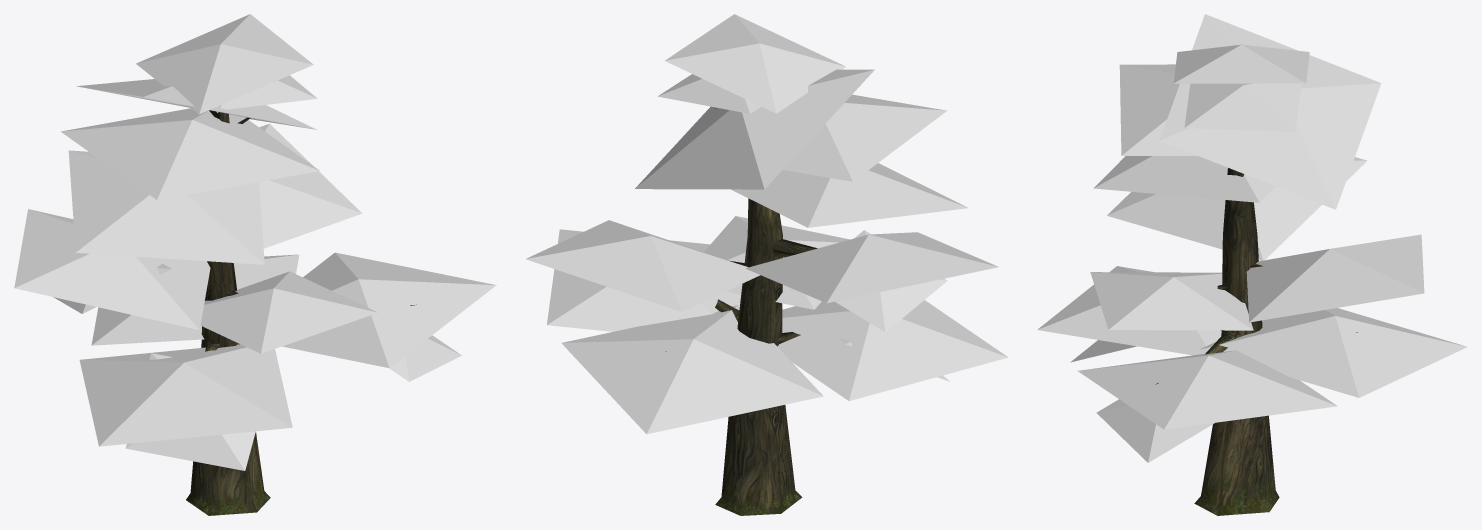
File: BigTree4_NOLOD.fbx
3 renders of one model, left to right at view 1: azimuth 30°, elevation 25°; view 2: azimuth 150°, elevation 25°; view 3: azimuth 270°, elevation 25°, orthographic.
Visible parts, largest first — view 1: bigtree4_LOD0; view 2: bigtree4_LOD0; view 3: bigtree4_LOD0.
Part boxes in pixels (bbox=[...]): bigtree4_LOD0: bbox=[14, 14, 496, 515]; bigtree4_LOD0: bbox=[525, 14, 1008, 515]; bigtree4_LOD0: bbox=[1037, 14, 1467, 515].
Size of the model in its own units: 9660 by 9134 by 7878.
